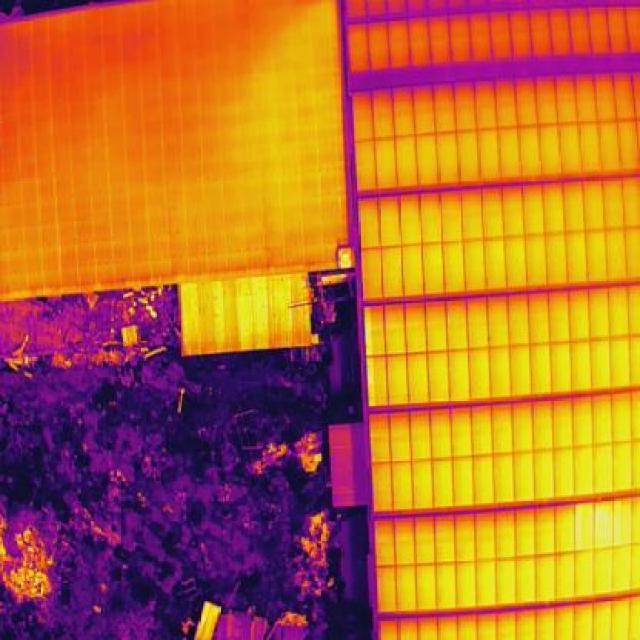diode: (361, 356, 377, 404), (361, 304, 374, 356)
